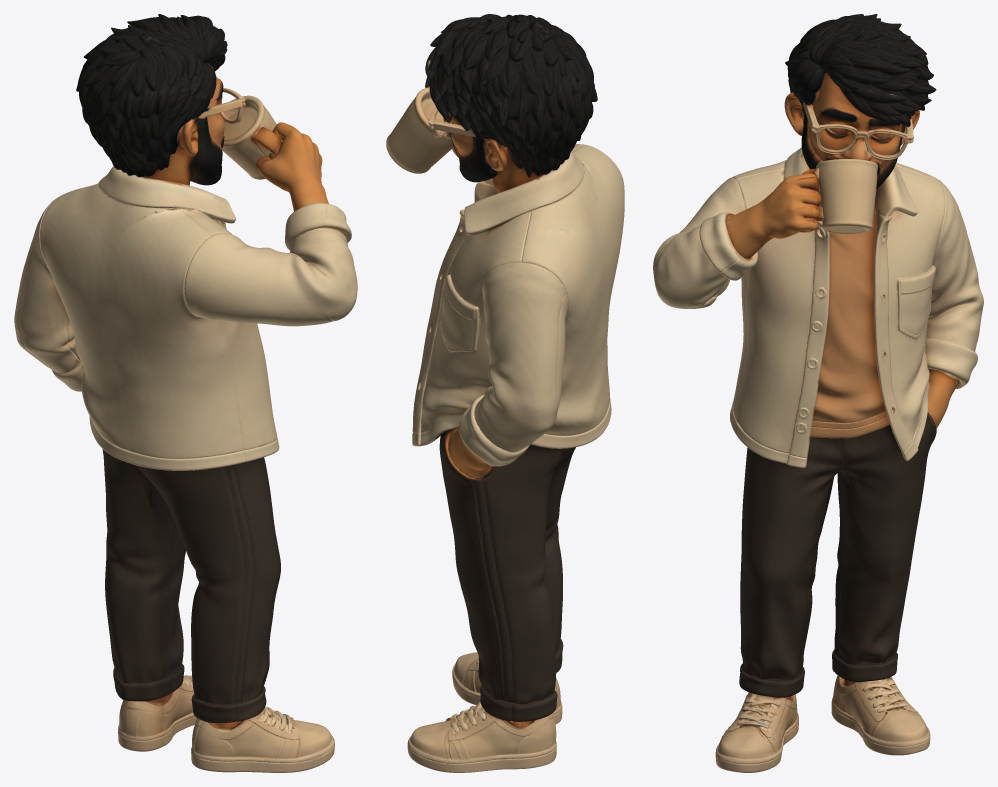
File: man drinking coffee 3d model.glb
3 renders of one model, left to right at view 1: azimuth 30°, elevation 25°; view 2: azimuth 150°, elevation 25°; view 3: azimuth 270°, elevation 25°, orthographic. The views are drawn at different scales.
Visible parts, largest first — view 1: tripo_node_8e230ae4-a195-48f1-95a7-a44196a8153b; view 2: tripo_node_8e230ae4-a195-48f1-95a7-a44196a8153b; view 3: tripo_node_8e230ae4-a195-48f1-95a7-a44196a8153b.
Part boxes in pixels (x1=…): tripo_node_8e230ae4-a195-48f1-95a7-a44196a8153b: x1=14, y1=14, x2=357, y2=772; tripo_node_8e230ae4-a195-48f1-95a7-a44196a8153b: x1=386, y1=14, x2=624, y2=772; tripo_node_8e230ae4-a195-48f1-95a7-a44196a8153b: x1=653, y1=14, x2=983, y2=772.
Size of the model in its own units: 0.3204 by 0.9809 by 0.4188.
1 material, 1 textured.
